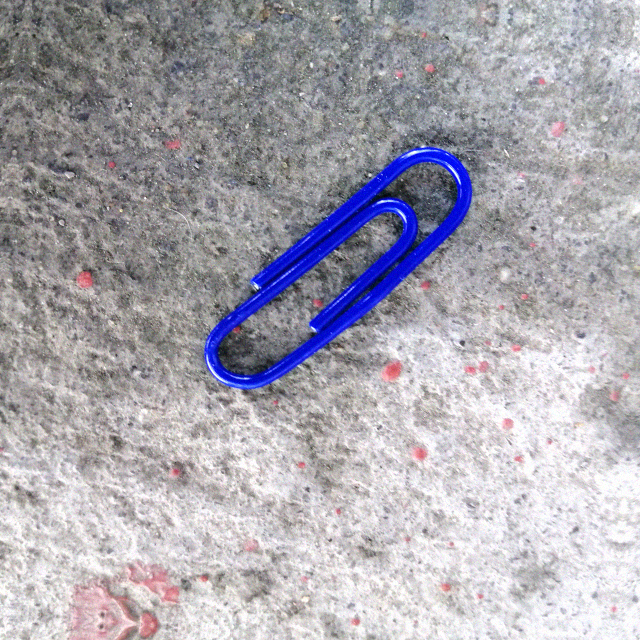pin: (208, 119, 472, 410)
